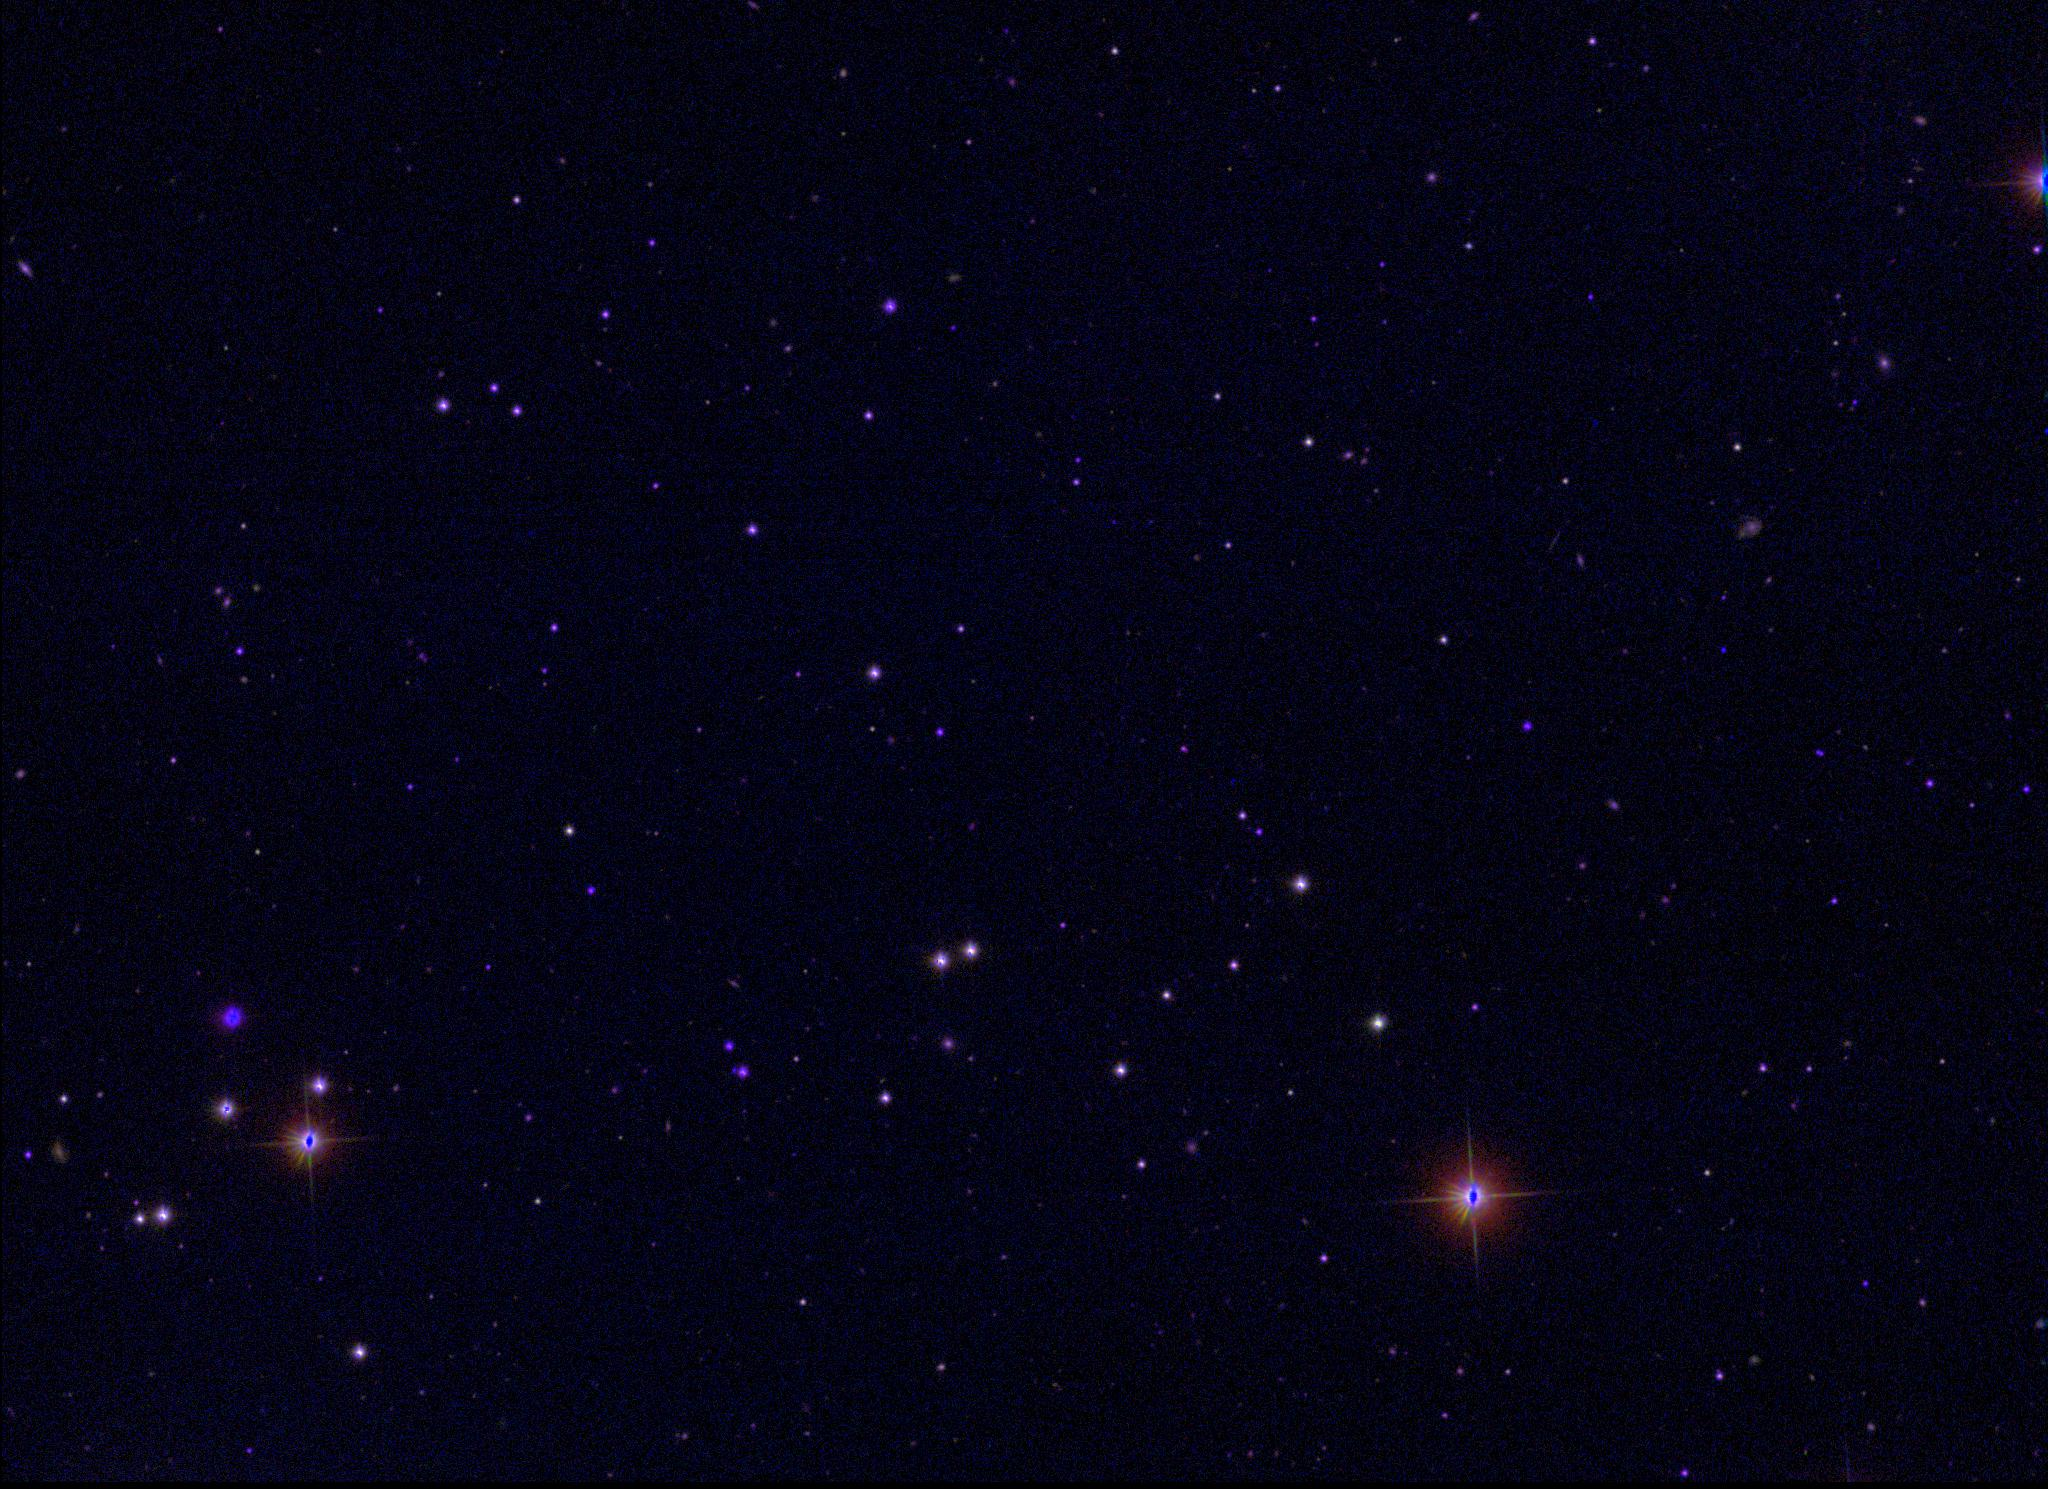L: (1716, 643, 1730, 657)
